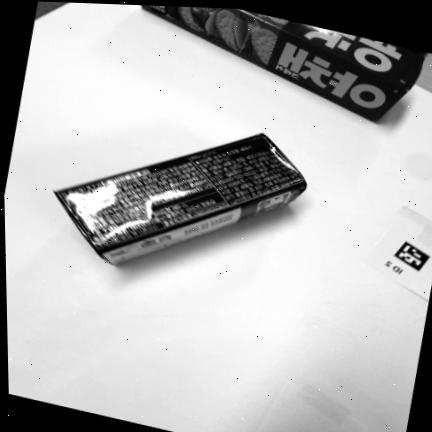cracker_ace: (55, 134, 306, 264)
cracker_vege: (141, 5, 424, 121)
